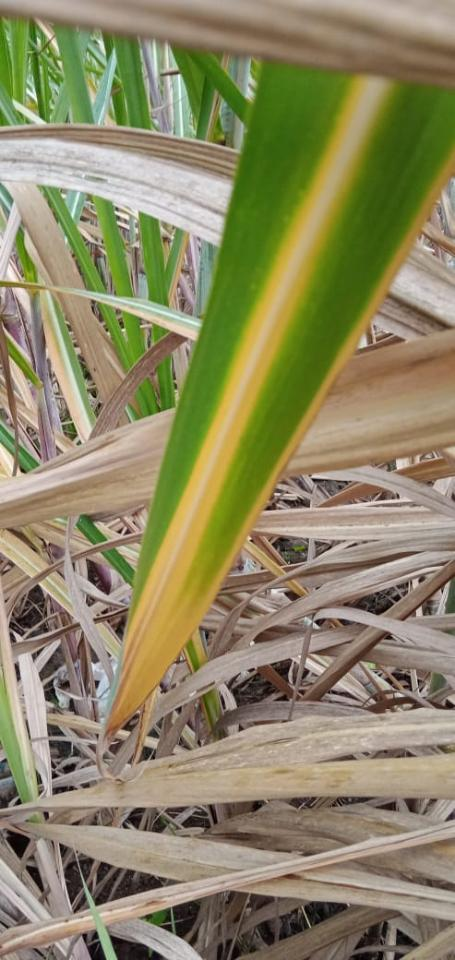Yellow: (104, 79, 454, 740), (122, 78, 366, 668)
